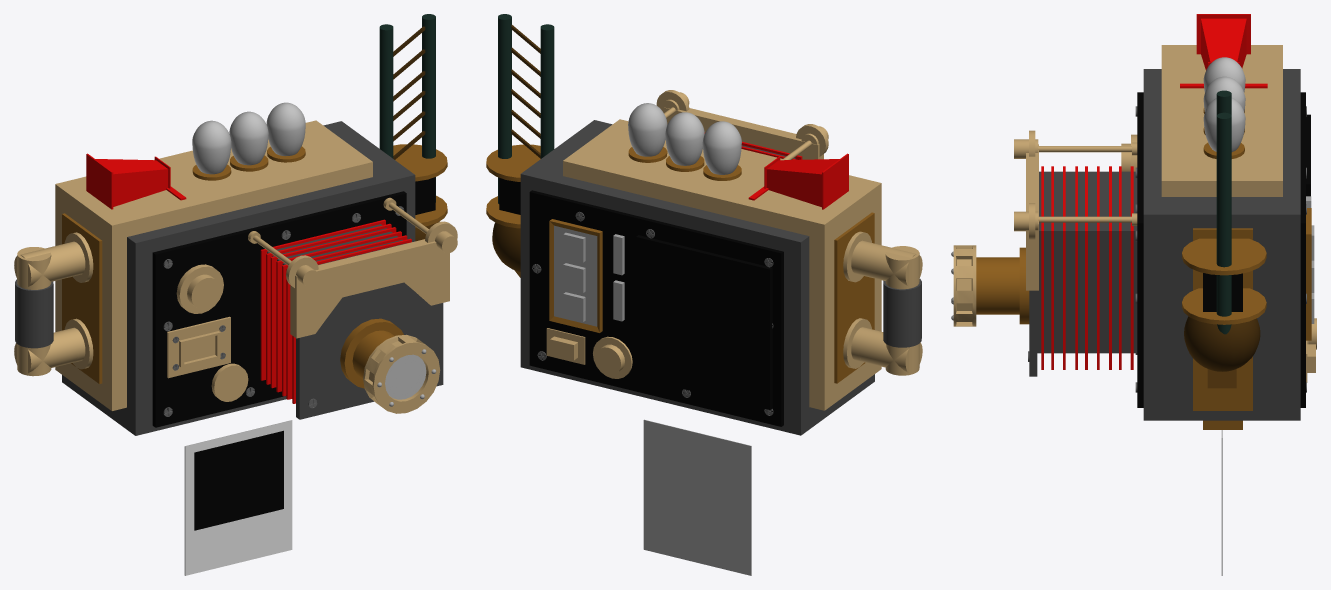
Rendered from camera.fbx.
3 renders of one model, left to right at view 1: azimuth 30°, elevation 25°; view 2: azimuth 150°, elevation 25°; view 3: azimuth 270°, elevation 25°, orthographic. The views are drawn at different scales.
Parts seen in each view (by area): view 1: pCube1, pCube16, pCube12, pCube45, pCube15, pCube17, pCylinder3, pCube13, pCylinder23, pCube22, pCylinder27, pCylinder26 (+24 smaller); view 2: pCube35, pCube16, pCube34, pCube1, pCube45, pCube17, pCube36, pCylinder23, pCube22, pCube15, pCylinder27, pCylinder26 (+20 smaller); view 3: pCube1, pCube16, pCylinder27, pSphere33, pCube31, pCylinder2, pCylinder25, pCube12, pCube22, pCylinder3, pCube34, pCylinder24 (+20 smaller).
Part boxes in pixels (box(x1,y1,x2,y2)): pCube1: box(62, 121, 443, 435); pCube16: box(55, 120, 372, 410); pCube12: box(152, 191, 406, 427); pCube45: box(184, 420, 292, 575); pCube15: box(290, 239, 449, 338); pCube17: box(62, 213, 102, 383); pCylinder3: box(363, 334, 440, 413); pCube13: box(167, 316, 230, 378); pCylinder23: box(15, 279, 53, 348); pCube22: box(95, 159, 168, 206); pCylinder27: box(422, 14, 435, 202); pCylinder26: box(379, 24, 393, 158); pCube35: box(636, 235, 772, 409); pCube16: box(563, 119, 881, 410); pCube34: box(529, 190, 783, 426); pCube1: box(520, 120, 874, 435); pCube45: box(643, 419, 751, 575); pCube17: box(834, 212, 874, 383); pCube36: box(554, 225, 597, 326); pCylinder23: box(883, 279, 921, 347); pCube22: box(766, 159, 839, 207); pCube15: box(663, 107, 823, 159); pCylinder27: box(498, 14, 511, 203); pCylinder26: box(540, 24, 554, 158); pCube1: box(1029, 69, 1300, 420); pCube16: box(1161, 45, 1282, 196); pCylinder27: box(1216, 112, 1231, 334); pSphere33: box(1184, 316, 1260, 371); pCube31: box(1193, 228, 1252, 410); pCylinder2: box(976, 257, 1019, 314); pCylinder25: box(1182, 238, 1266, 275); pCube12: box(1137, 92, 1143, 407); pCube22: box(1201, 18, 1246, 70); pCylinder3: box(953, 245, 976, 326); pCube34: box(1300, 92, 1305, 407); pCylinder24: box(1182, 288, 1266, 324).
Size of the model in its own units: 17.66 by 19.74 by 12.3.
